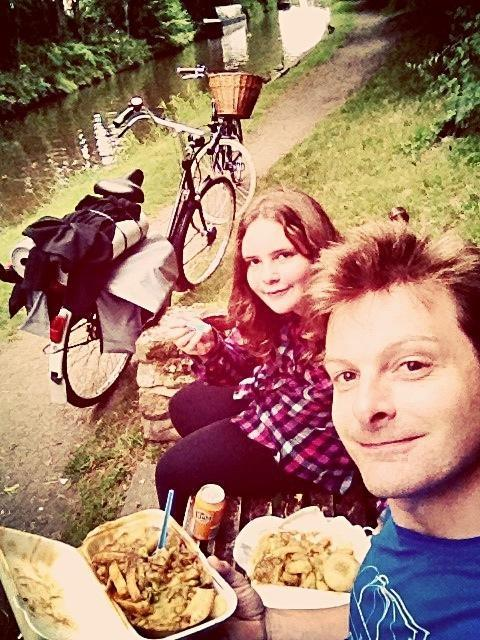bicycle: (49, 92, 236, 410), (176, 64, 268, 220)
